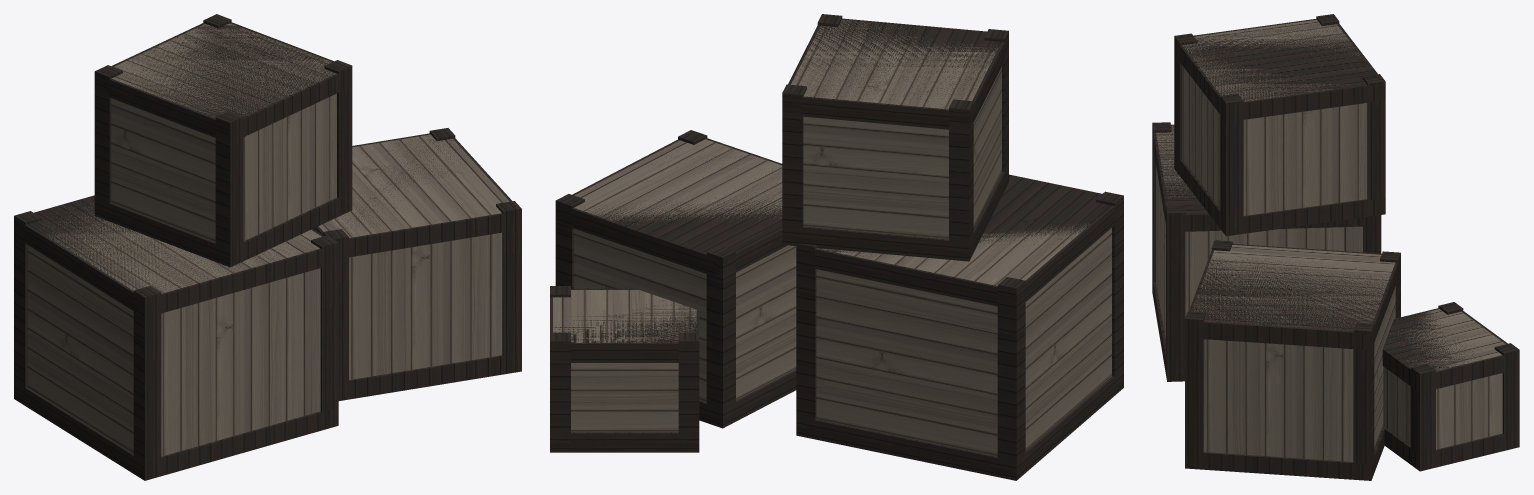
File: crate_stack_01.glb
3 views of the same model, side by side, from view 1: azimuth 30°, elevation 25°; view 2: azimuth 150°, elevation 25°; view 3: azimuth 270°, elevation 25° (orthographic). The views are drawn at different scales.
Parts seen in each view (by area): view 1: crate_stack_01; view 2: crate_stack_01; view 3: crate_stack_01.
Part boxes in pixels (x1,y1,x2,y2): crate_stack_01: (14,14,521,480); crate_stack_01: (550,14,1123,480); crate_stack_01: (1152,14,1519,480).
Bounding box in the file's own units: 1.77 × 1.26 × 1.4.
Materials: 2 (2 with a texture image).
